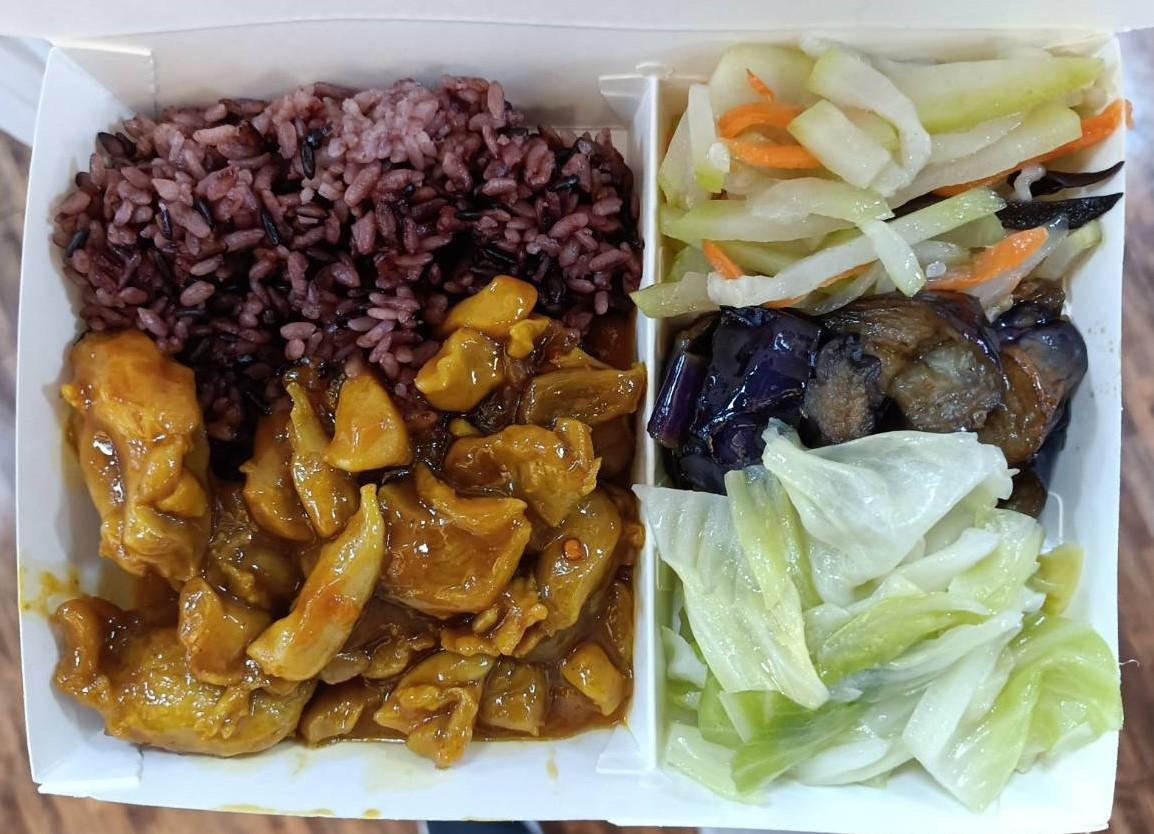big grilled chicken leg: (6, 12, 1154, 834)
braised fish: (46, 67, 641, 386)
braised fish fillet: (646, 426, 1126, 811), (654, 28, 1113, 312), (648, 294, 1086, 495)
braised pork: (48, 276, 641, 767)
